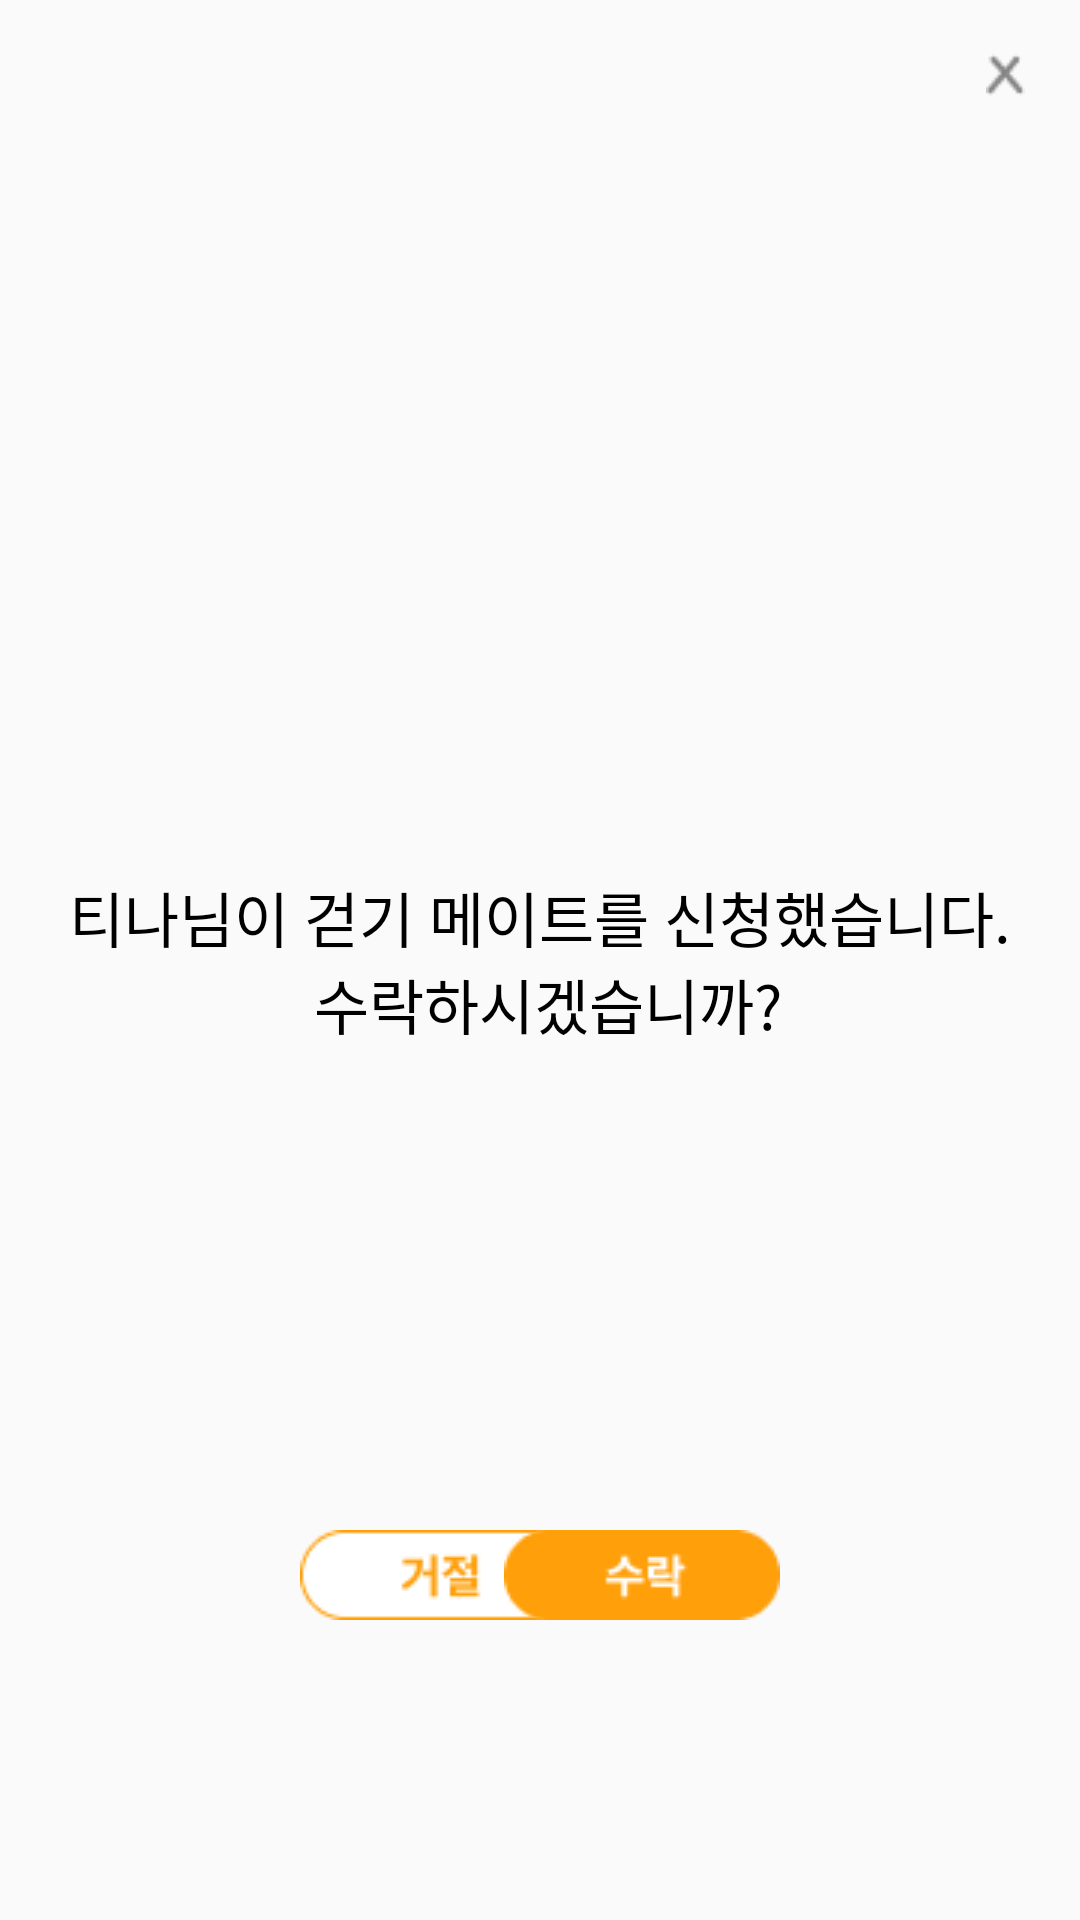

Icon click points for this 1080 × 1920 phone screenshot, format point (x, y):
invite exit: point (1004, 75)
